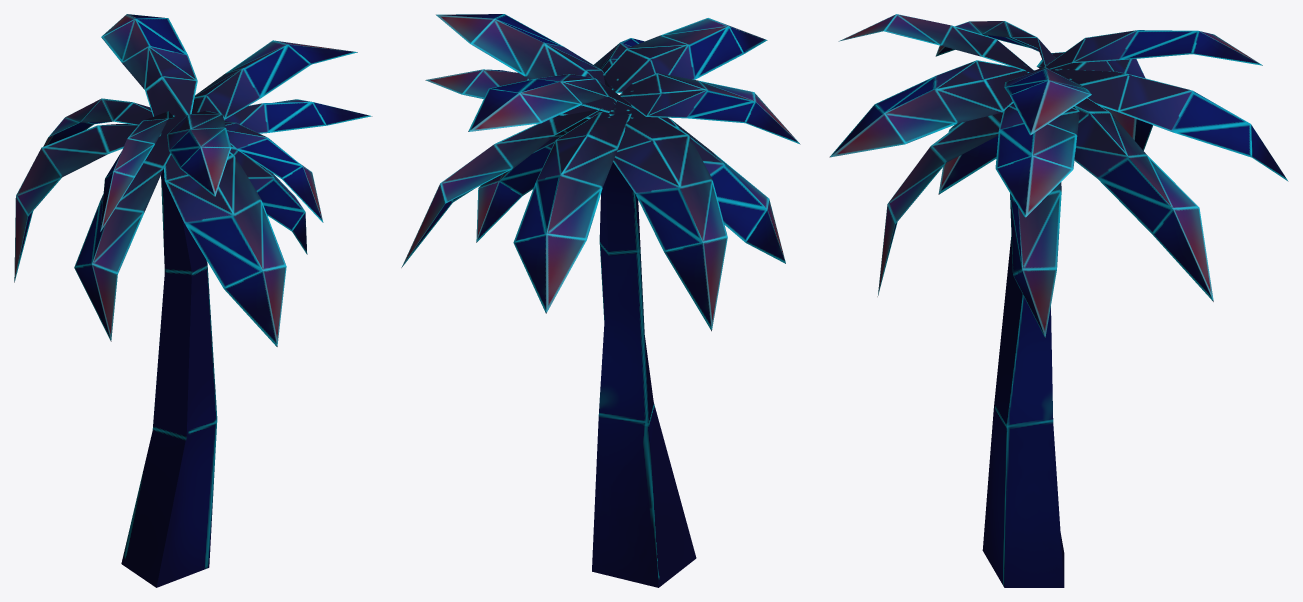
File: Palm.glb
3 renders of one model, left to right at view 1: azimuth 30°, elevation 25°; view 2: azimuth 150°, elevation 25°; view 3: azimuth 270°, elevation 25°, orthographic. The views are drawn at different scales.
Parts seen in each view (by area): view 1: urban_env_palm_glb; view 2: urban_env_palm_glb; view 3: urban_env_palm_glb.
Boxes of the visible parts, x1,y1,x2,y2 form: urban_env_palm_glb: [14, 14, 372, 587]; urban_env_palm_glb: [401, 14, 800, 587]; urban_env_palm_glb: [829, 14, 1288, 587].
Size of what is drawn, in the model's own units: 3.39 by 5.02 by 3.72.
1 material, 1 textured.
